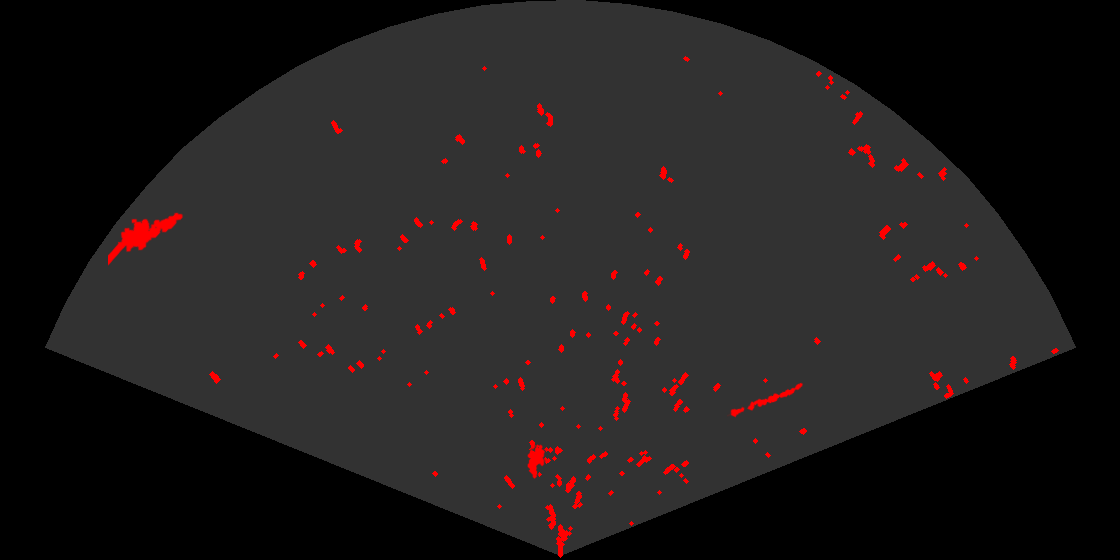AUV: (526, 443, 547, 481)
chain: (727, 381, 805, 419)
frogman: (108, 211, 185, 267)
